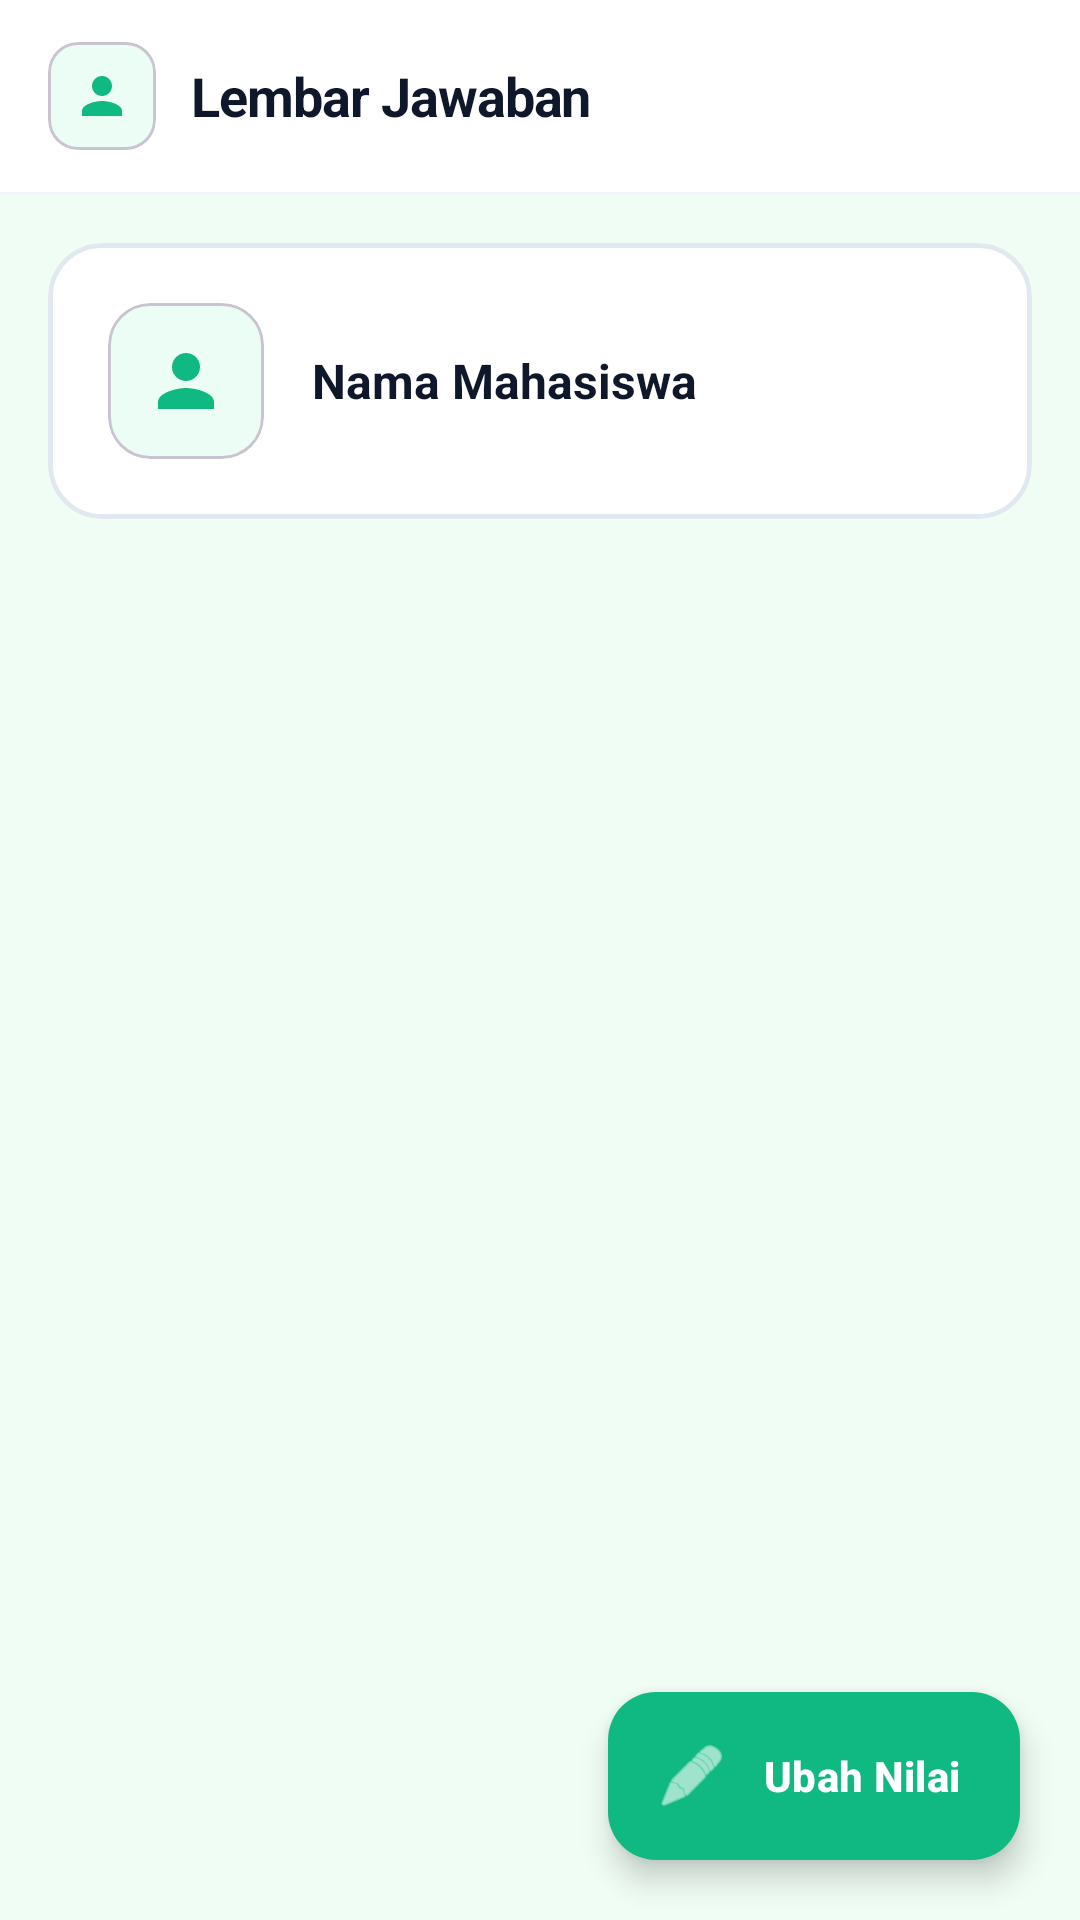

Icon click points for this 1080 x 1920 phone screenshot, format [x,y]:
person: [102,96], [186,381]
